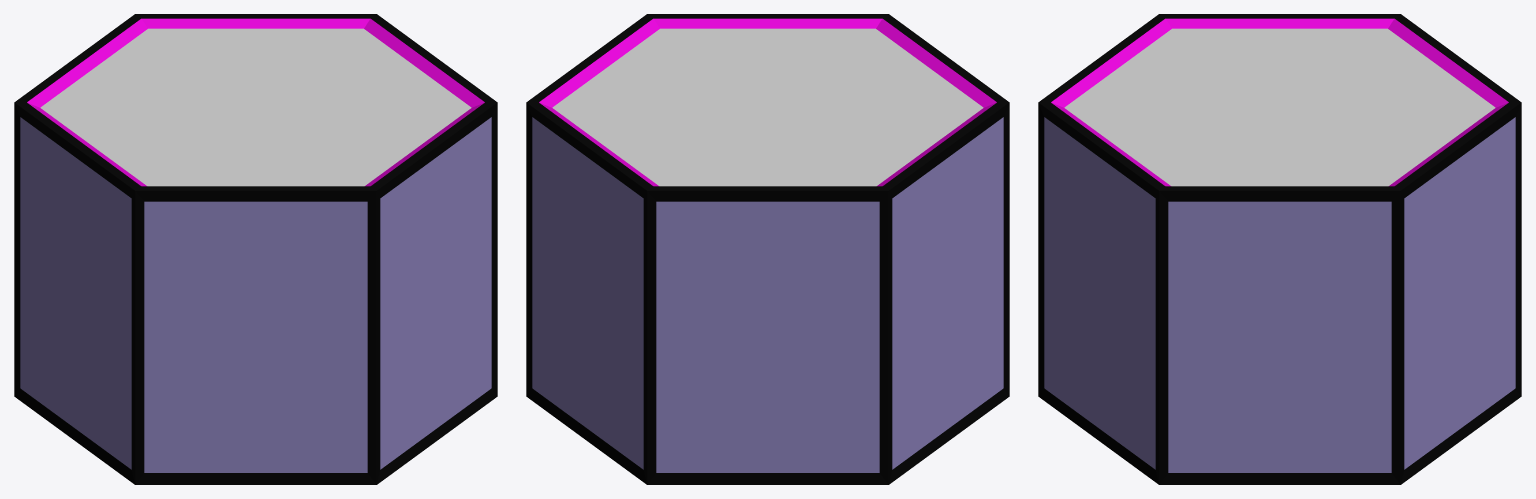
Rendered from Hex.fbx.
The picture shows the model from 3 angles, left to right: view 1: azimuth 30°, elevation 25°; view 2: azimuth 150°, elevation 25°; view 3: azimuth 270°, elevation 25°; orthographic projection.
Visible parts, largest first — view 1: Circle; view 2: Circle; view 3: Circle.
Part boxes in pixels (x1,y1,x2,y2): Circle: (14, 14, 497, 484); Circle: (526, 14, 1009, 484); Circle: (1038, 14, 1521, 484).
Size of the model in its own units: 173 by 134 by 200.
